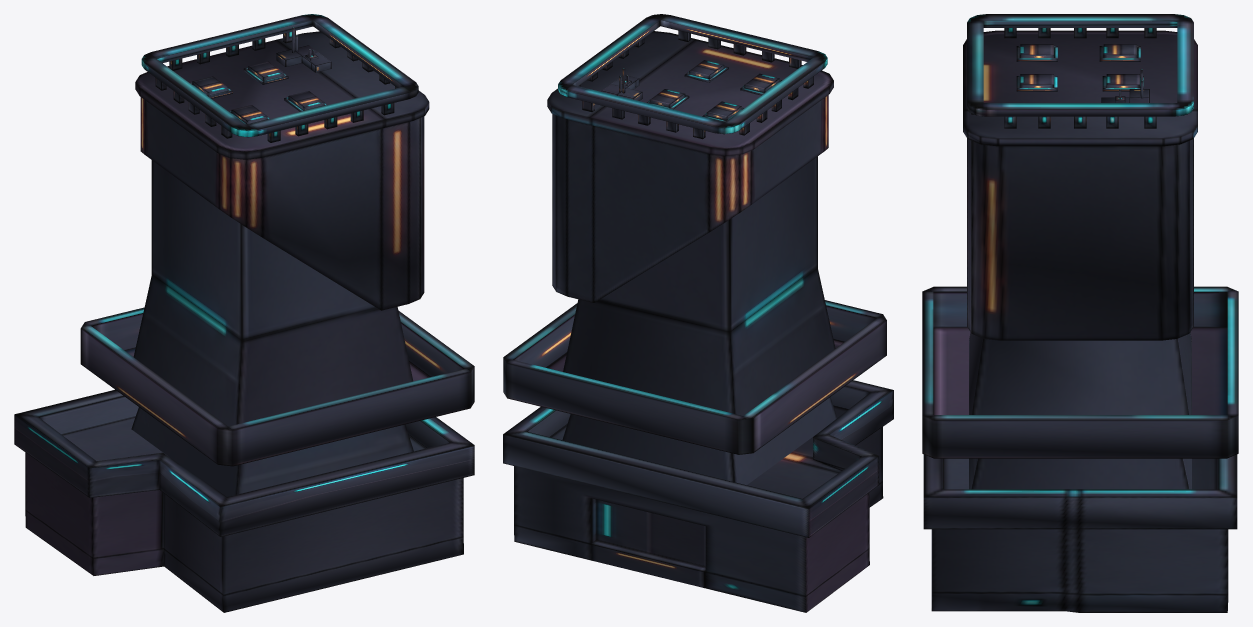
The model's file is Building-04.fbx.
3 renders of one model, left to right at view 1: azimuth 30°, elevation 25°; view 2: azimuth 150°, elevation 25°; view 3: azimuth 270°, elevation 25°, orthographic. The views are drawn at different scales.
Visible parts, largest first — view 1: Cube.025, Cube.001, Cube, Cube.002, Cube.024, Cube.026, Cube.035; view 2: Cube.025, Cube.001, Cube, Cube.002, Cube.024, Cube.034, Cube.026, Cube.033, Cube.035; view 3: Cube, Cube.025, Cube.002, Cube.001, Cube.024, Cube.032, Cube.033, Cube.034, Cube.035.
Boxes of the visible parts, <box> form: Cube.025: <box>14,389,474,612</box>; Cube.001: <box>131,160,413,496</box>; Cube: <box>135,31,429,310</box>; Cube.002: <box>80,307,474,466</box>; Cube.024: <box>141,14,418,137</box>; Cube.026: <box>276,45,331,72</box>; Cube.035: <box>243,61,288,84</box>; Cube.025: <box>503,380,893,612</box>; Cube.001: <box>562,156,837,485</box>; Cube: <box>547,31,833,302</box>; Cube.002: <box>503,300,886,454</box>; Cube.024: <box>558,14,827,134</box>; Cube.034: <box>684,60,728,82</box>; Cube.026: <box>601,75,642,100</box>; Cube.033: <box>740,73,781,95</box>; Cube.035: <box>647,89,689,109</box>; Cube: <box>963,30,1197,340</box>; Cube.025: <box>923,454,1237,612</box>; Cube.002: <box>922,286,1238,458</box>; Cube.001: <box>969,332,1191,489</box>; Cube.024: <box>967,14,1193,116</box>; Cube.032: <box>1099,44,1140,61</box>; Cube.033: <box>1016,44,1057,61</box>; Cube.034: <box>1016,74,1057,91</box>; Cube.035: <box>1102,74,1143,91</box>.
Size of the model in its own units: 318 by 452 by 256.
1 material, 1 textured.
